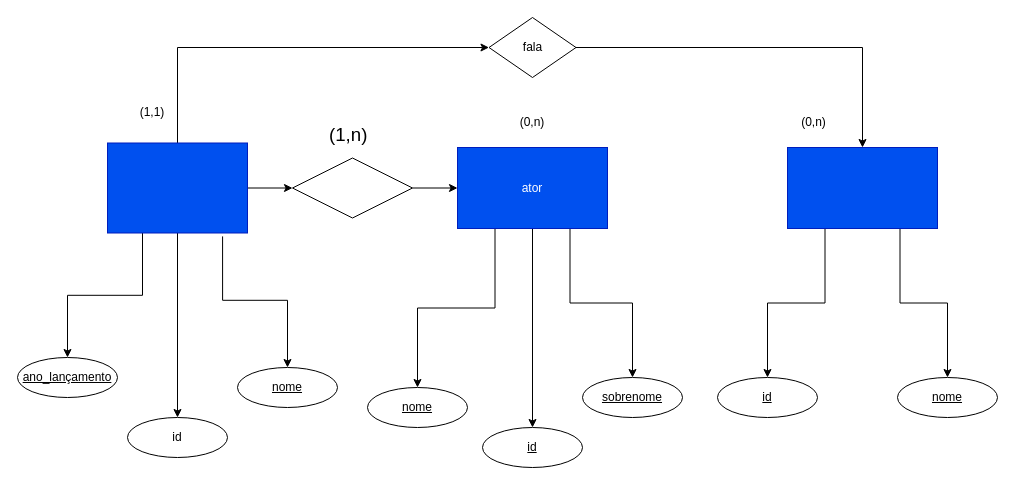
The diagram is 1015 pixels wide and 485 high, and some of its shapes have lost their labels. Each missing label, with the box of its shape:
filme: (106, 142, 248, 233)
idioma: (786, 146, 938, 228)
tem: (292, 157, 412, 218)
